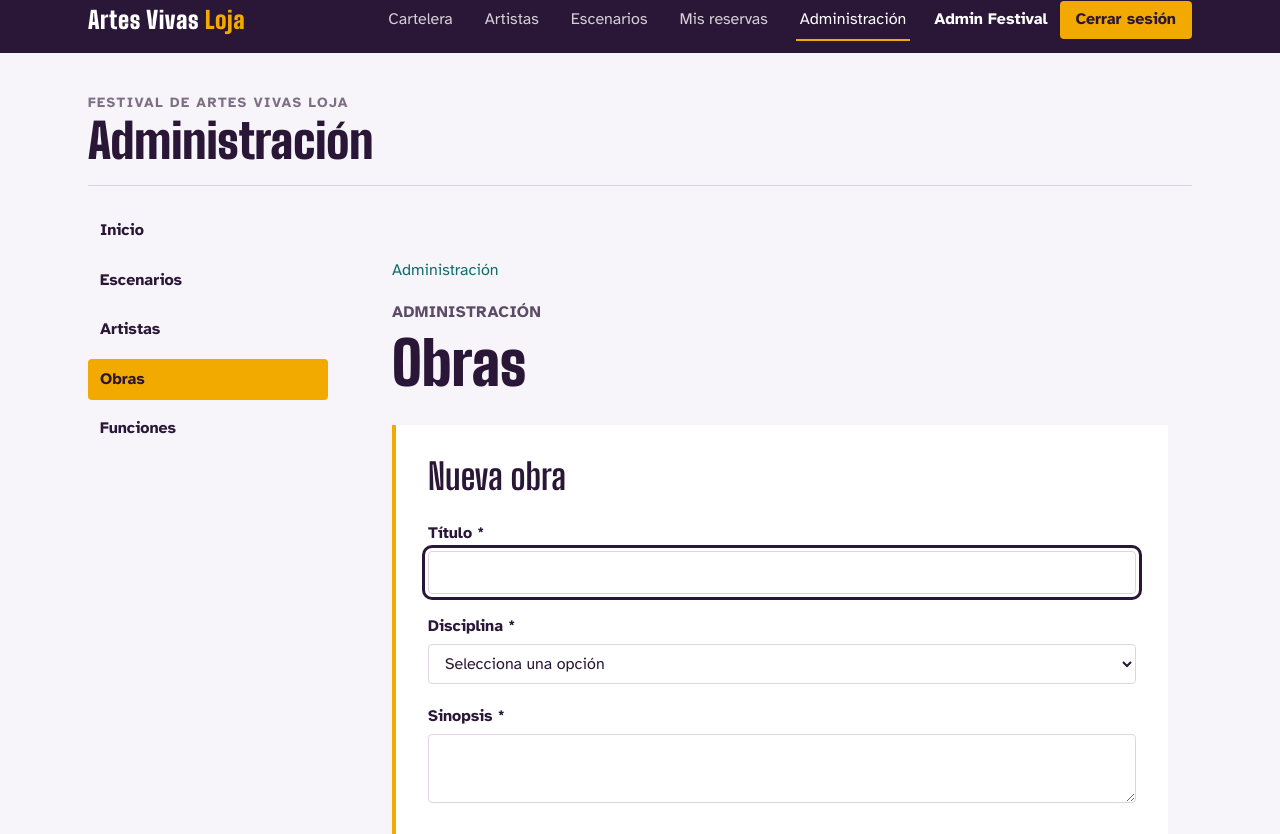
Test: AdminEventsPage › lista obras, asocia artistas por IDs, permite editar y presenta conflicto al borrar una obra con funciones
This screenshot has width=1280, height=834.
Earlier steps of the test are not shown.
Later steps or results of the test are not shown.
Type "Nueva obra" into the field labelled "Título" at (782, 573), box [428, 551, 1136, 594]
Select "Danza" in the dropdown labelled "Disciplina" at (782, 664), box [428, 644, 1136, 684]
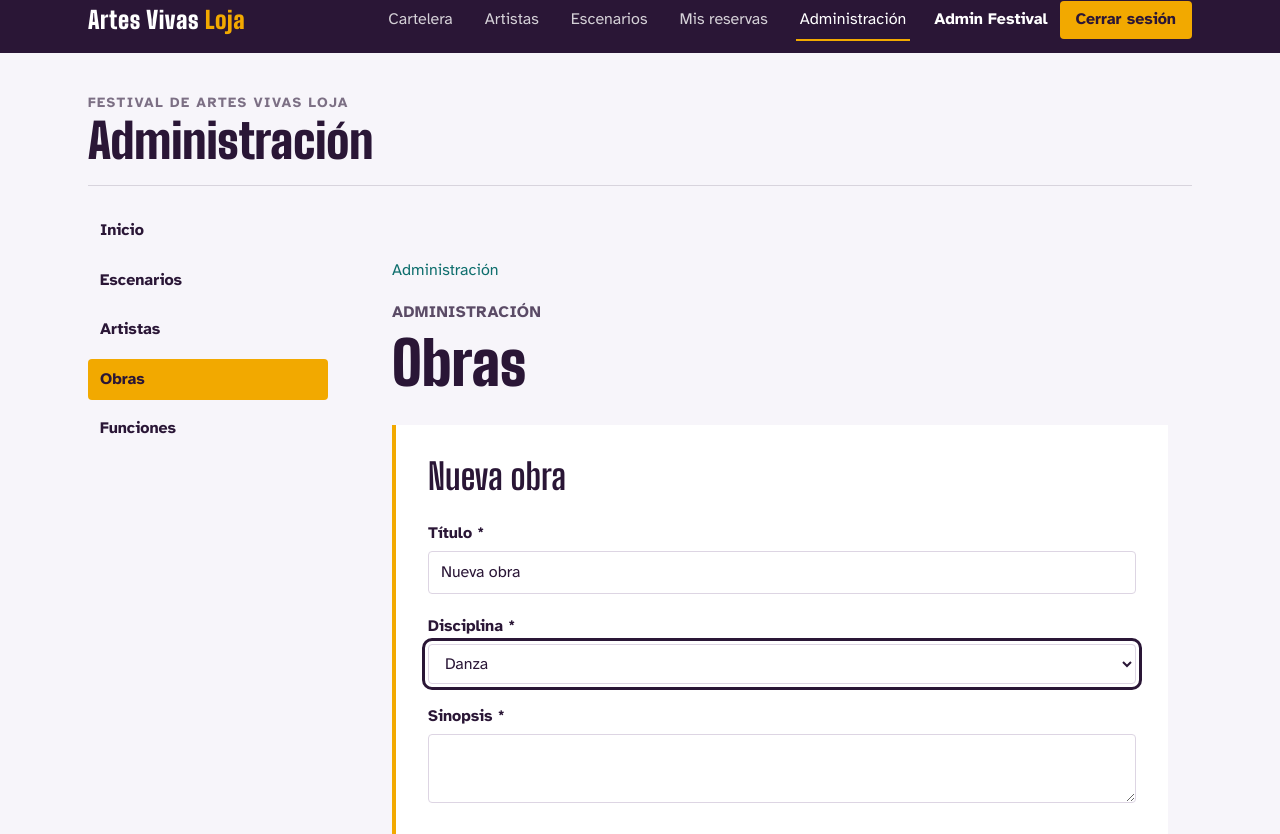
Type "Una sinopsis nueva." into the text box labelled "Sinopsis" at (782, 768), box [428, 734, 1136, 803]
(page scrolled)
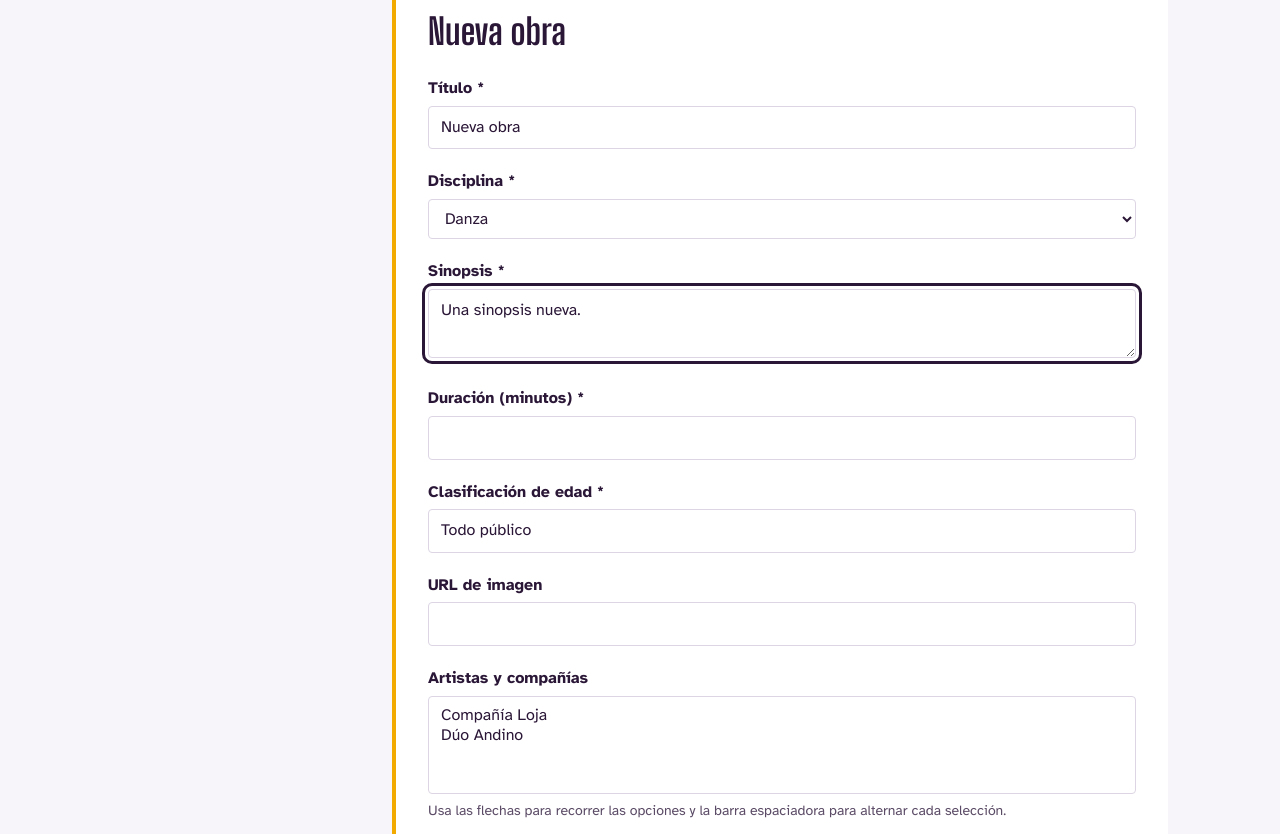
Type "65" into the number field labelled "Duración (minutos)" at (782, 438), box [428, 416, 1136, 460]
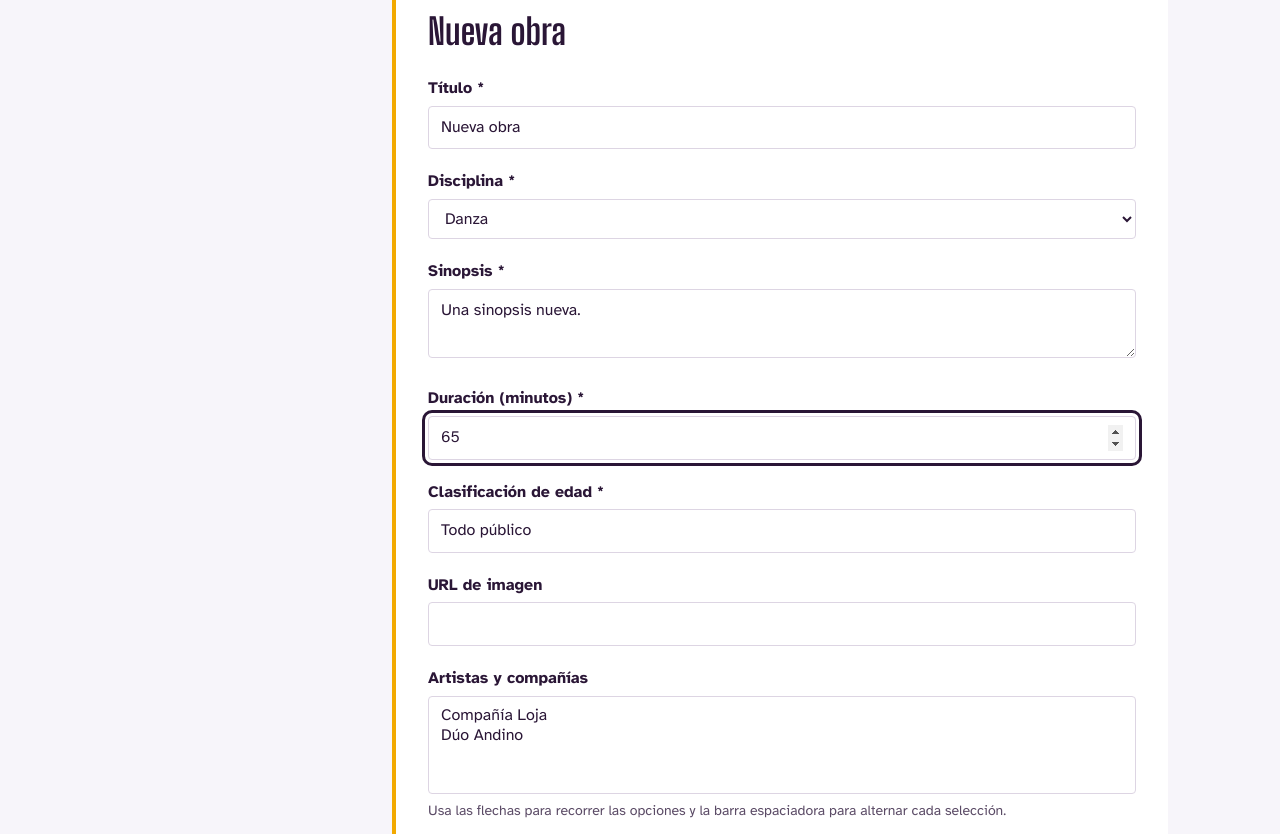
Replace the text in the field labelled "Clasificación de edad" with "+12" at (782, 531), box [428, 509, 1136, 553]
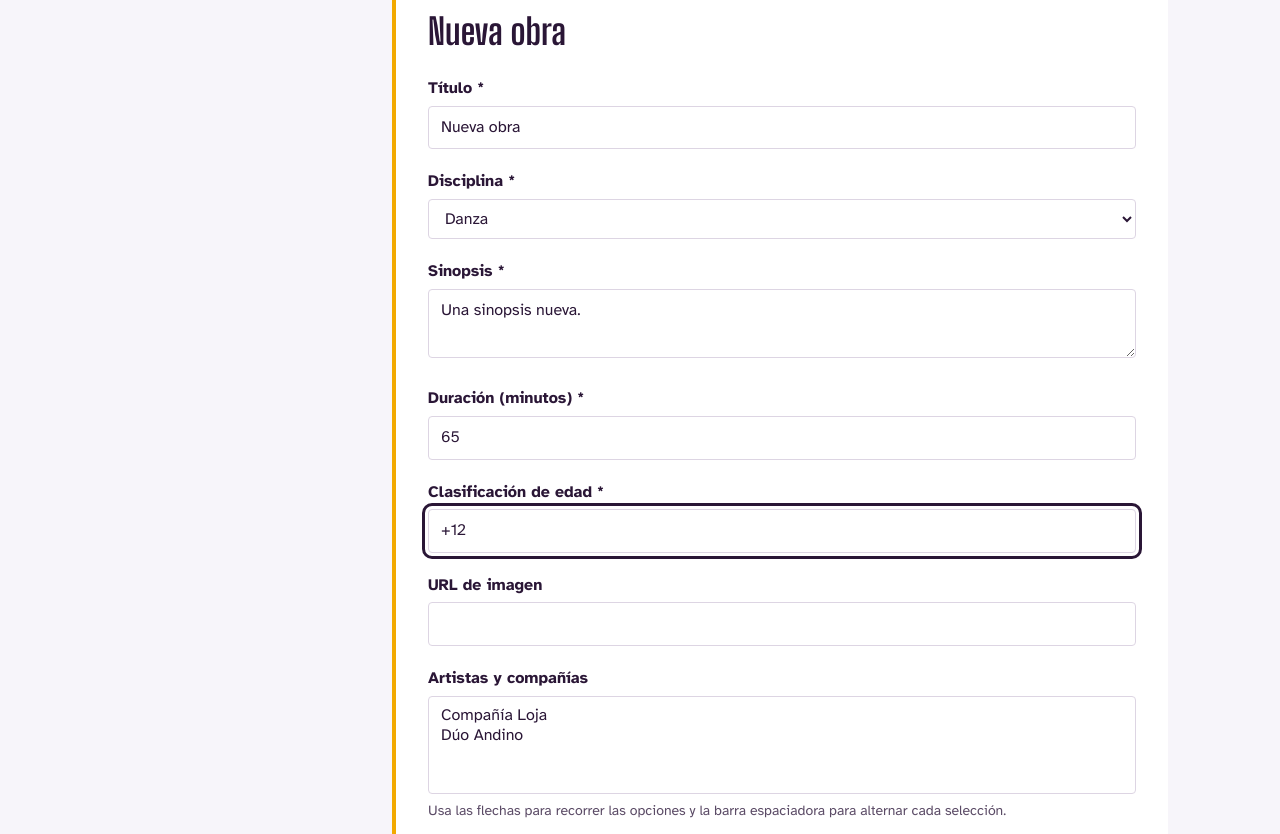
Check: the option "Compañía Loja" is shown, box [441, 704, 1123, 724]
Select "11, 12" in the dropdown labelled "Artistas y compañías" at (782, 744), box [428, 696, 1136, 794]
(page scrolled)
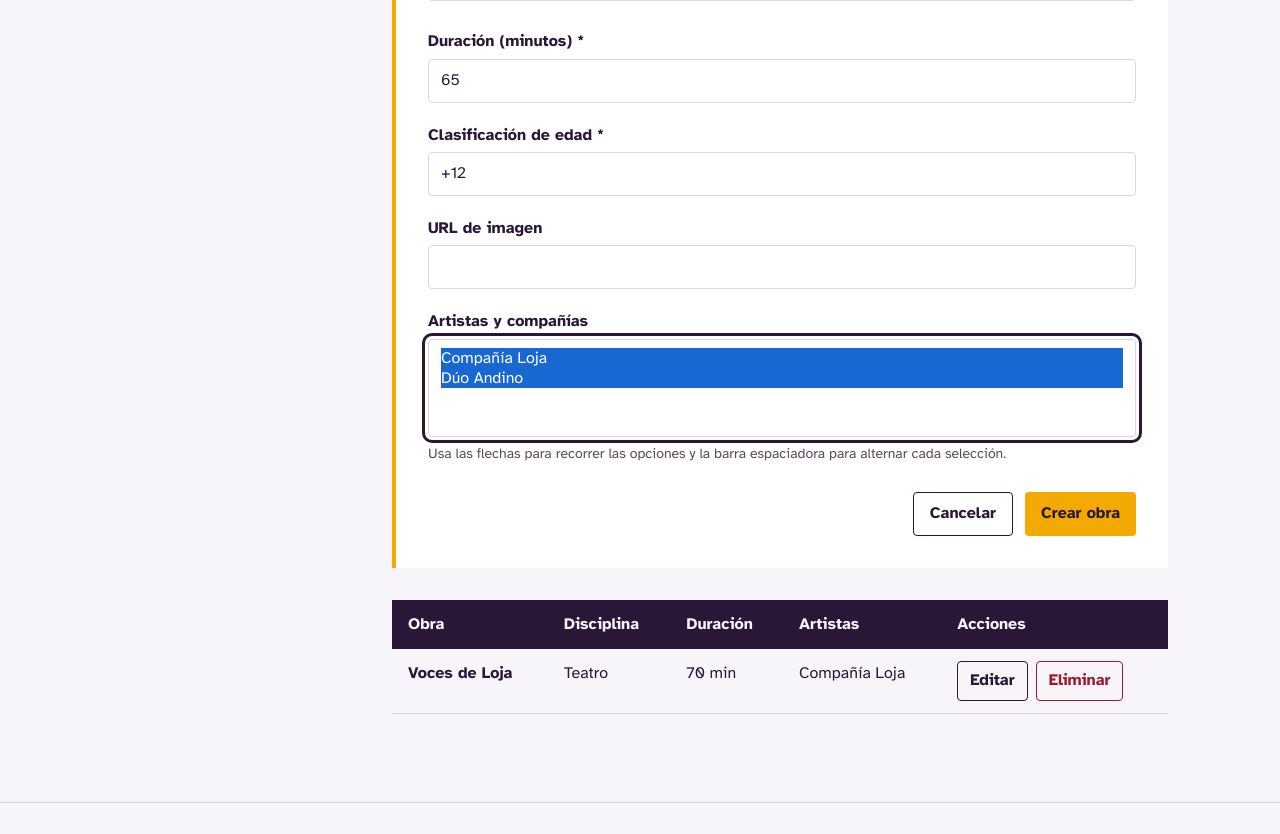
Click the button "Crear obra" at (1080, 514), box [1025, 492, 1136, 536]
(page scrolled)
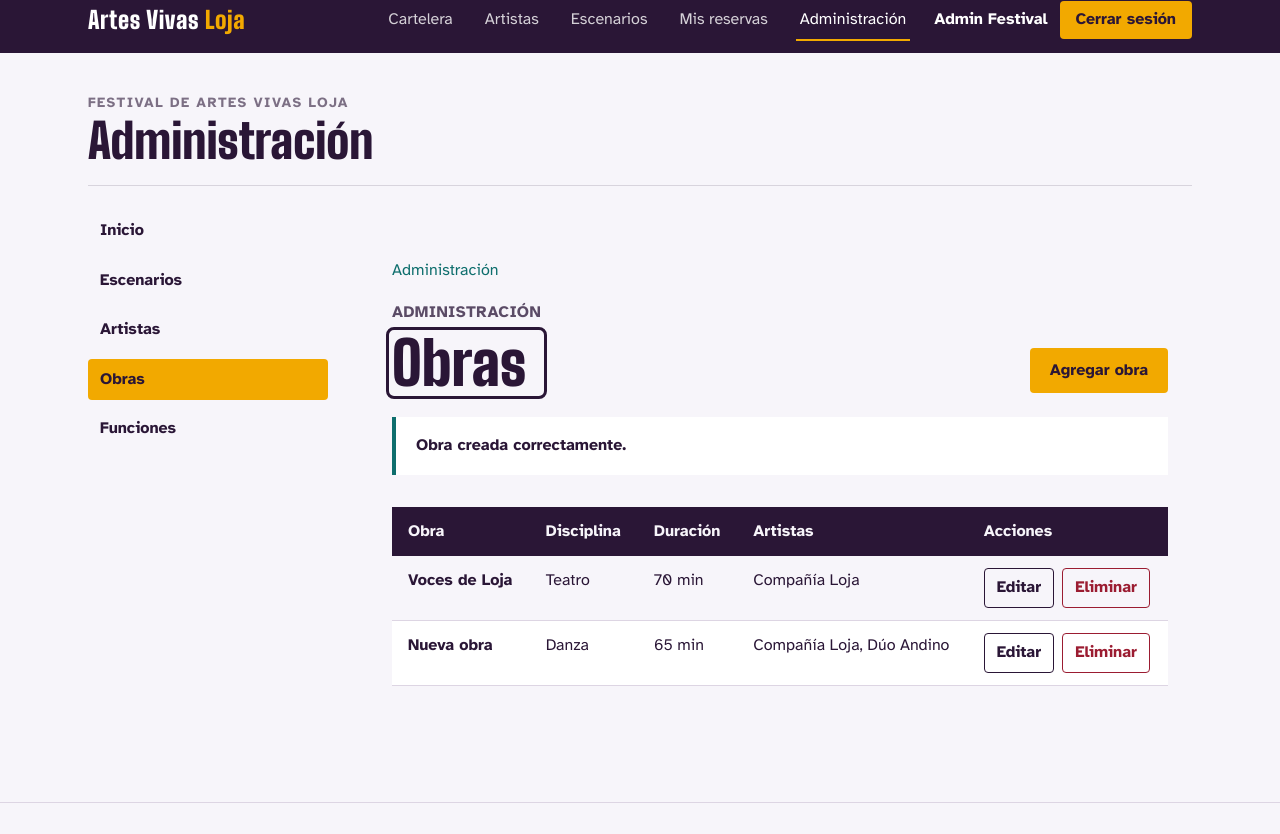
Check: the message reads "Obra creada correctamente.", box [416, 435, 626, 455]
Check: the text "Compañía Loja, Dúo Andino" is shown, box [737, 620, 968, 685]
